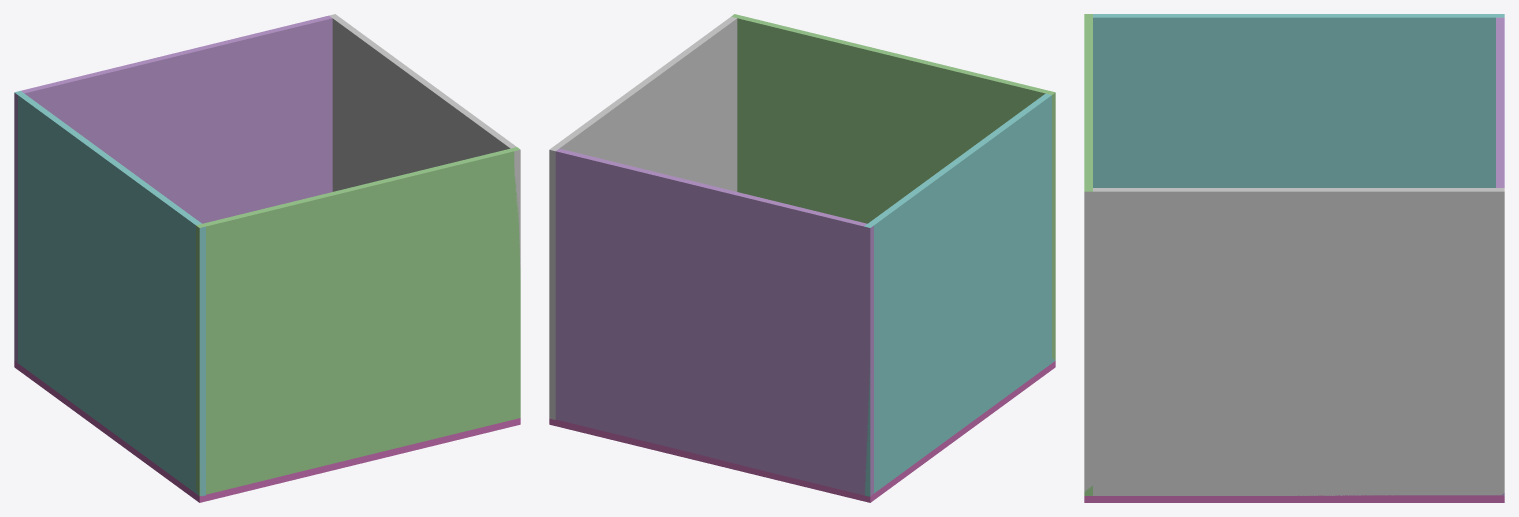
File: Floor_Testing.fbx
3 renders of one model, left to right at view 1: azimuth 30°, elevation 25°; view 2: azimuth 150°, elevation 25°; view 3: azimuth 270°, elevation 25°, orthographic. The views are drawn at different scales.
Visible parts, largest first — view 1: Cube.002, Cube.004, Cube.001, Cube.003, Cube; view 2: Cube.001, Cube.004, Cube.002, Cube.003, Cube; view 3: Cube.003, Cube.004, Cube, Cube.002, Cube.001.
Boxes of the visible parts, x1,y1,x2,y2 form: Cube.002: [196, 147, 520, 495]; Cube.004: [14, 91, 205, 496]; Cube.001: [14, 15, 332, 363]; Cube.003: [329, 14, 520, 278]; Cube: [14, 361, 520, 502]; Cube.001: [555, 148, 873, 495]; Cube.004: [864, 93, 1055, 496]; Cube.002: [731, 14, 1055, 360]; Cube.003: [549, 17, 737, 419]; Cube: [549, 361, 1055, 502]; Cube.003: [1084, 188, 1504, 495]; Cube.004: [1093, 14, 1504, 187]; Cube: [1084, 495, 1504, 502]; Cube.002: [1084, 14, 1092, 495]; Cube.001: [1496, 17, 1504, 495].
Bounding box in the file's own units: 1000 × 818 × 1000.
